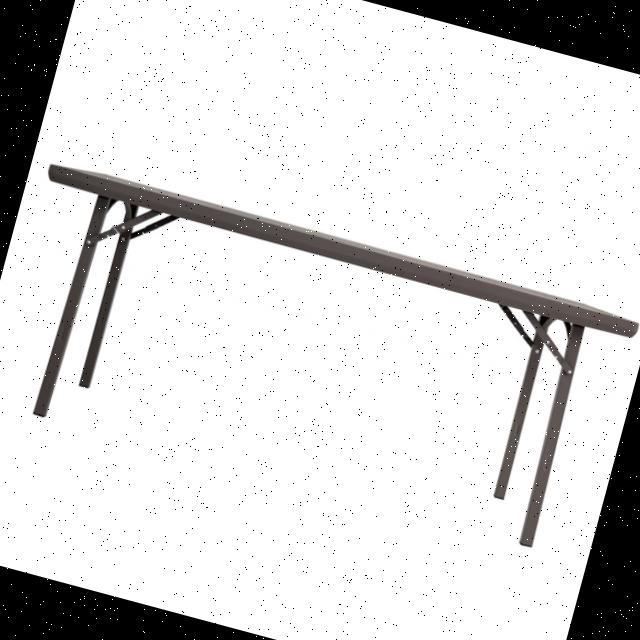Table: (0, 127, 640, 578)
